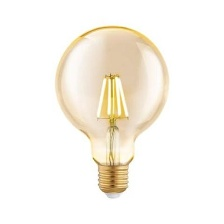light_bulb: (53, 22, 171, 208)
